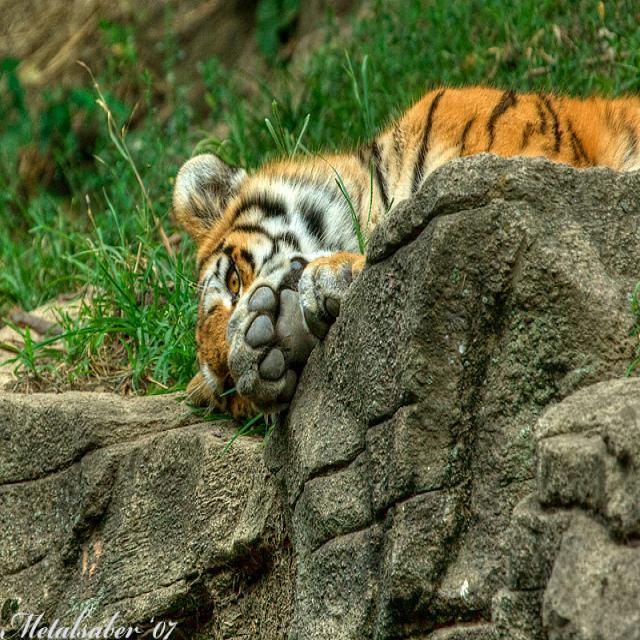Tiger: (168, 83, 639, 418)
